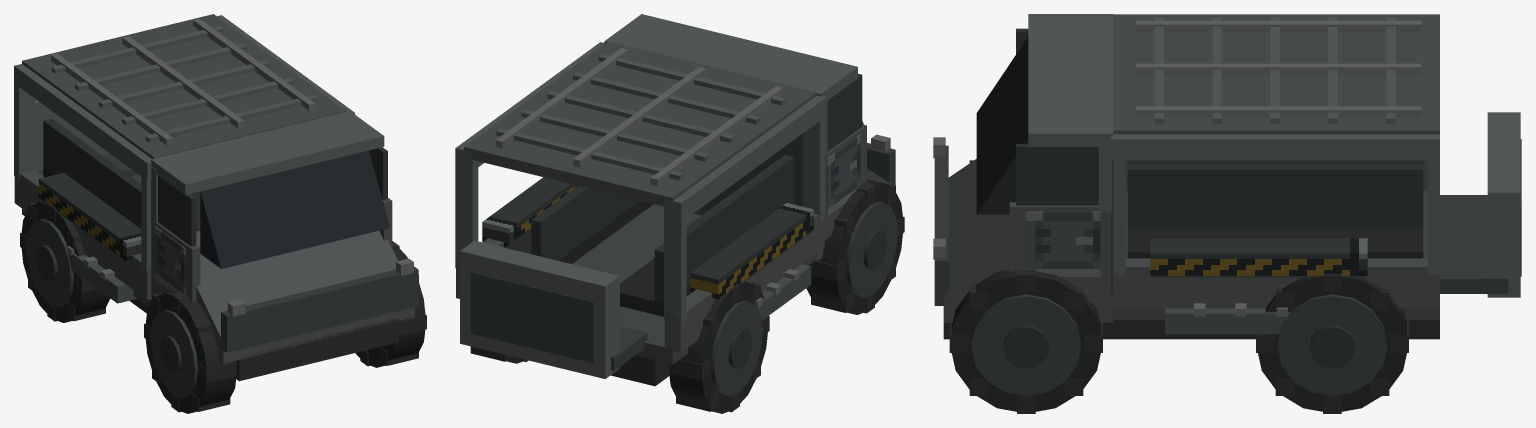
Rendered from CMU3DAU14PropUSCMBison3VehicleFinalCloud.glb.
3 views of the same model, side by side, from view 1: azimuth 30°, elevation 25°; view 2: azimuth 150°, elevation 25°; view 3: azimuth 270°, elevation 25° (orthographic). The views are drawn at different scales.
Visible parts, largest first — view 1: bison cargo roof, recessed sloped windshield, bison cab roof, bison sloped front hood, bison front armored grille, bison roof transverse rib (×5), cargo bench back, bison raised roof rail (×3), bison connected undercarriage, original hazard side stripe -1, open cargo upper side beam -1, tire 0 -1 (+19 smaller); view 2: bison cargo roof, cargo bench back (×2), extended rear open-state panel, bison cab roof, extended rear panel inset, bison roof transverse rib (×5), bison cargo floor, bison raised roof rail (×3), original hazard side stripe -1, cargo opening end jamb -1 (×2), open cargo upper side beam -1, open cargo lower side sill -1 (+20 smaller); view 3: bison cargo roof, cargo bench back, bison cab roof, bison raised roof rail (×3), open cargo upper side beam 1, open cargo lower side sill 1, original hazard side stripe 1, metal wheel rim 0 1, metal wheel rim 1 1, cargo bench seat (×2), recessed sloped windshield, tire 0 1 (+18 smaller).
Boxes of the visible parts, x1,y1,x2,y2 form: bison cargo roof: (22, 14, 346, 158); recessed sloped windshield: (200, 150, 389, 268); bison cab roof: (151, 111, 384, 194); bison sloped front hood: (196, 231, 397, 340); bison front armored grille: (221, 266, 418, 352); bison roof transverse rib (×5): (51, 26, 317, 142); cargo bench back: (43, 118, 141, 228); bison raised roof rail (×3): (51, 18, 315, 145); bison connected undercarriage: (129, 299, 398, 381); original hazard side stripe -1: (38, 172, 141, 261); open cargo upper side beam -1: (14, 64, 151, 180); tire 0 -1: (145, 290, 235, 413); bison cargo roof: (464, 41, 816, 207); cargo bench back (×2): (531, 154, 794, 303); extended rear open-state panel: (460, 240, 619, 378); bison cab roof: (604, 14, 857, 100); extended rear panel inset: (470, 272, 594, 363); bison roof transverse rib (×5): (496, 53, 785, 180); bison cargo floor: (572, 204, 817, 364); bison raised roof rail (×3): (495, 48, 783, 186); original hazard side stripe -1: (690, 203, 813, 299); cargo opening end jamb -1 (×2): (664, 112, 825, 323); open cargo upper side beam -1: (664, 96, 826, 222); open cargo lower side sill -1: (664, 213, 824, 352); bison cargo roof: (1113, 15, 1439, 134); cargo bench back: (1127, 164, 1423, 227); bison cab roof: (1028, 14, 1113, 146); bison raised roof rail (×3): (1136, 20, 1421, 117); open cargo upper side beam 1: (1111, 134, 1439, 160); open cargo lower side sill 1: (1113, 258, 1439, 308); original hazard side stripe 1: (1150, 238, 1367, 275); metal wheel rim 0 1: (971, 294, 1081, 395); metal wheel rim 1 1: (1277, 294, 1387, 395); cargo bench seat (×2): (1127, 160, 1423, 258); recessed sloped windshield: (976, 37, 1028, 214); tire 0 1: (951, 269, 1100, 411).
Size of the model in its own units: 1.6 by 1.5 by 2.85.
Materials: 13 (2 with a texture image).
